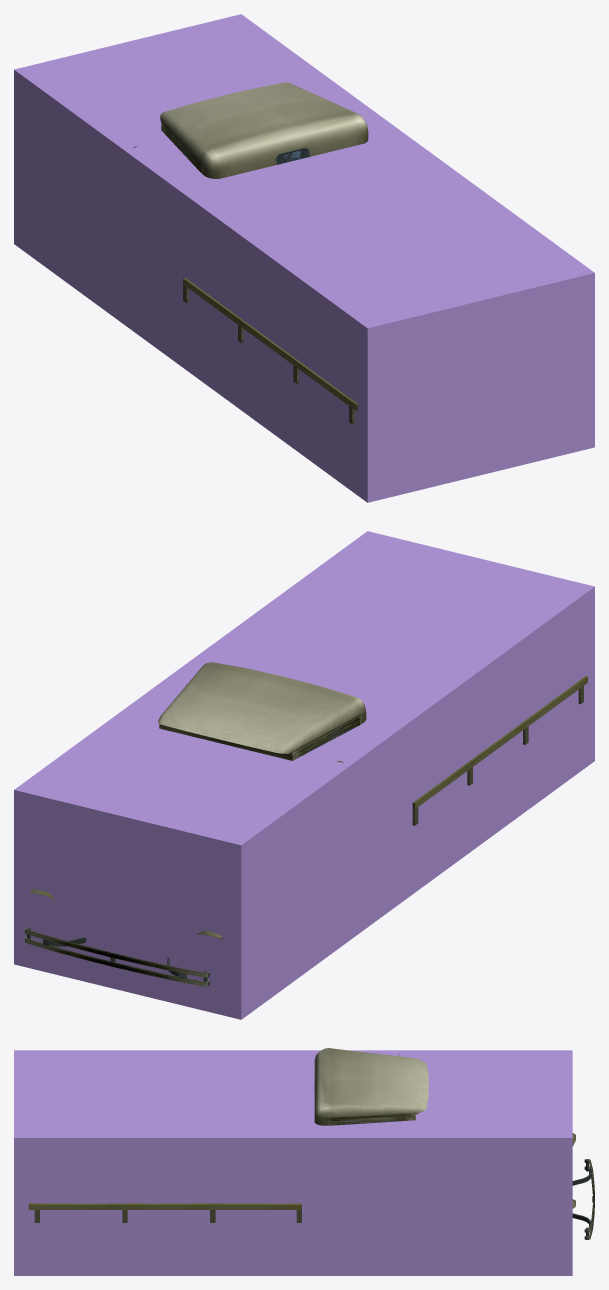
The model's file is GazAA_Body.DAE.
The picture shows the model from 3 angles, top to bottom: view 1: azimuth 30°, elevation 25°; view 2: azimuth 150°, elevation 25°; view 3: azimuth 270°, elevation 25°; orthographic projection. The views are drawn at different scales.
Parts seen in each view (by area): view 1: Col-1, Body, gazzz; view 2: Col-1, Body, gazzz; view 3: Col-1, Body, gazzz.
Boxes of the visible parts, bbox=[...] form: Col-1: bbox=[14, 14, 594, 502]; Body: bbox=[160, 82, 368, 178]; gazzz: bbox=[183, 277, 358, 424]; Col-1: bbox=[14, 531, 594, 1019]; Body: bbox=[25, 662, 366, 986]; gazzz: bbox=[412, 676, 587, 825]; Col-1: bbox=[14, 1050, 572, 1275]; Body: bbox=[314, 1048, 594, 1239]; gazzz: bbox=[28, 1203, 301, 1222].
Size of the model in its own units: 1959 by 5332 by 1656.
